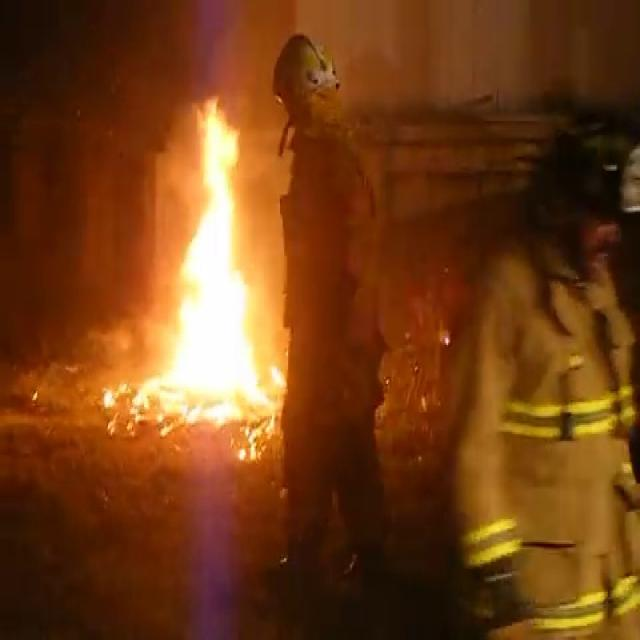Fire: (115, 90, 286, 436)
